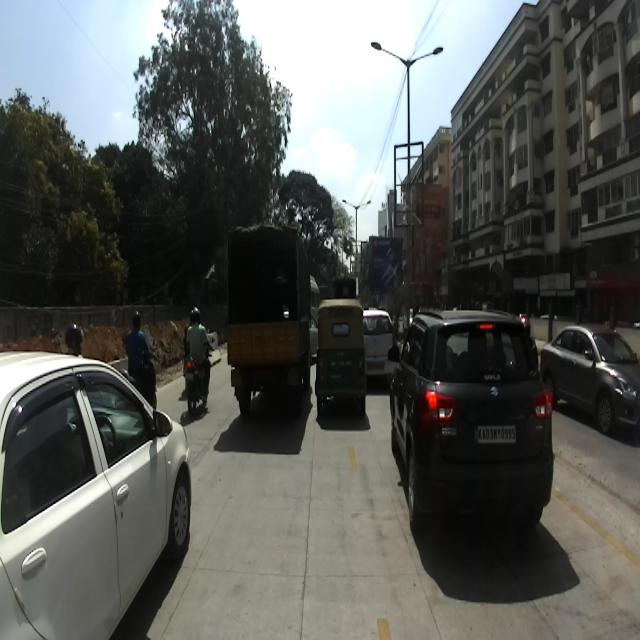auto ahead at: (315, 301, 367, 430)
car ahead at: (0, 343, 192, 640), (388, 310, 560, 549)
truck ahead at: (222, 224, 308, 423)
